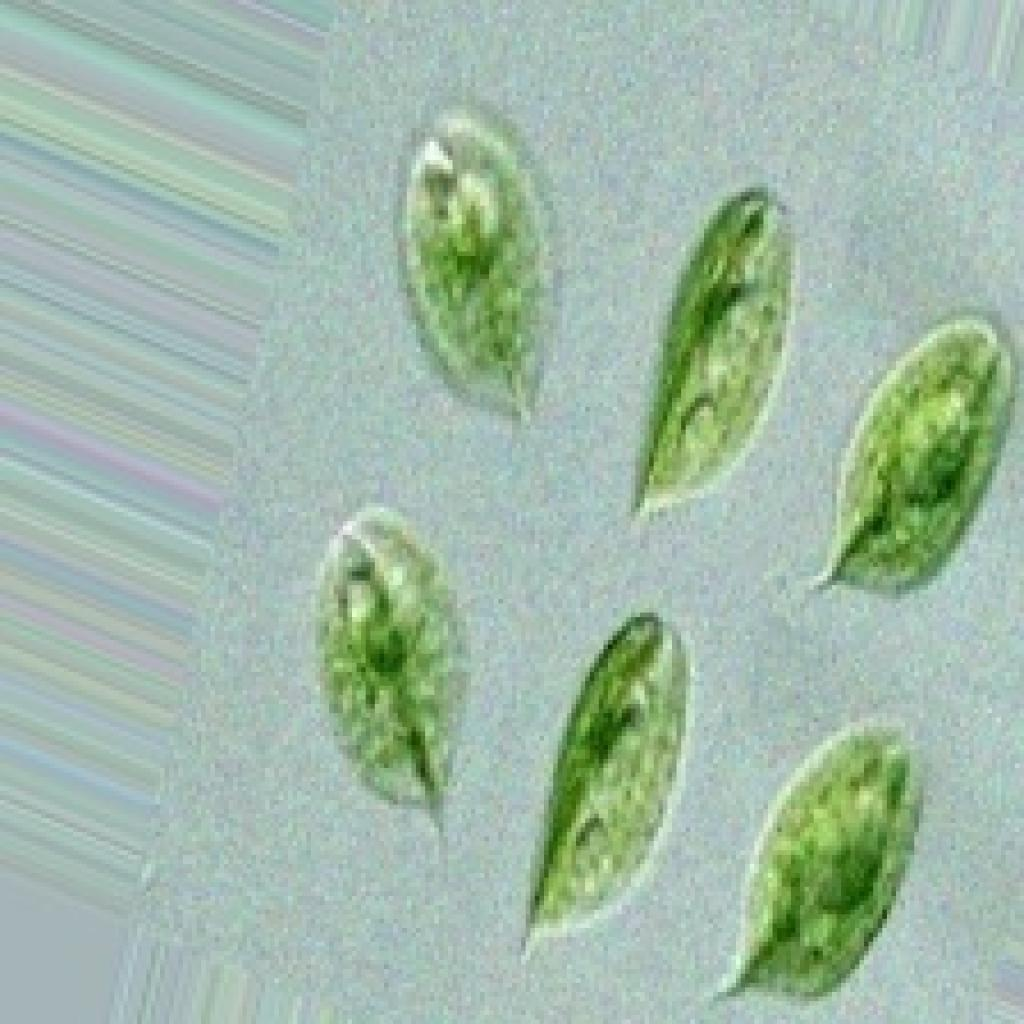Microalgae: (301, 60, 1020, 1016)
